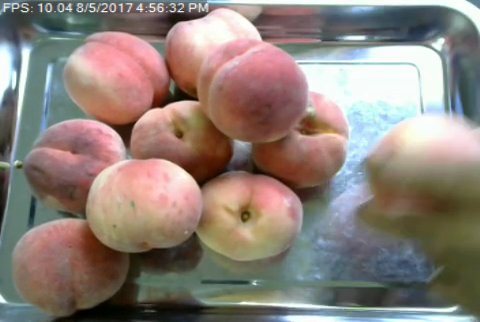Peach: (196, 38, 310, 143), (14, 215, 129, 317), (89, 155, 199, 252), (63, 29, 169, 126), (192, 170, 304, 260), (253, 90, 347, 187), (24, 119, 125, 206), (165, 8, 262, 95), (130, 99, 234, 179)
